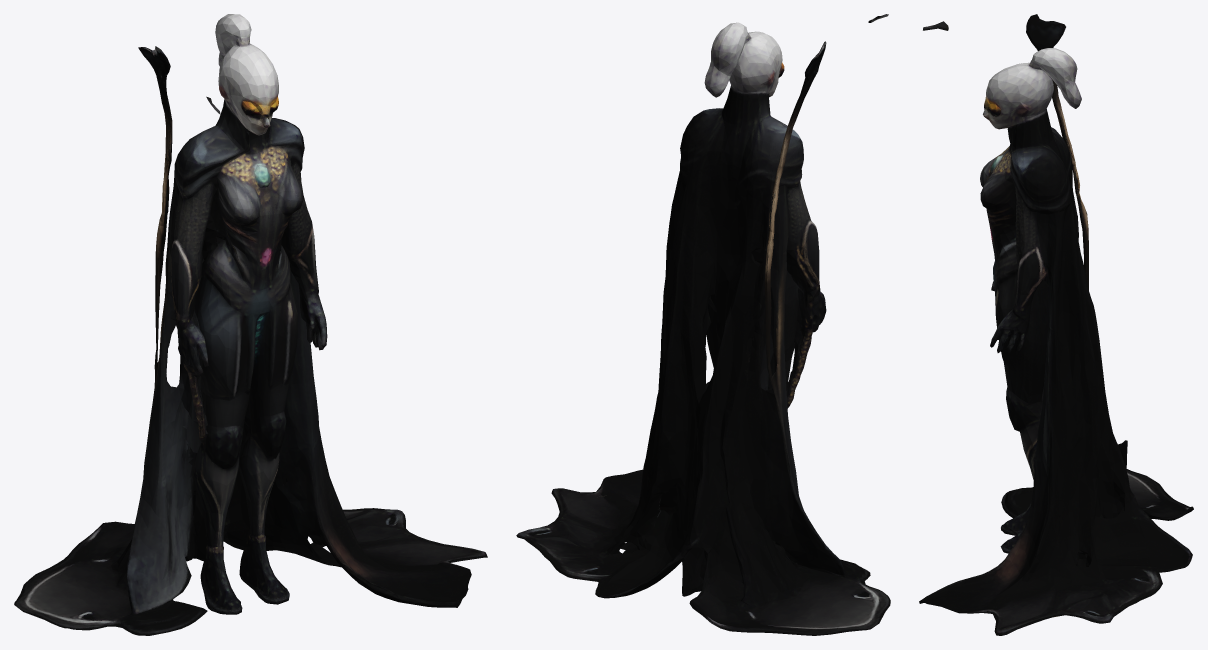
File: odessa_drake.glb
The picture shows the model from 3 angles, left to right: view 1: azimuth 30°, elevation 25°; view 2: azimuth 150°, elevation 25°; view 3: azimuth 270°, elevation 25°; orthographic projection. The views are drawn at different scales.
Visible parts, largest first — view 1: world; view 2: world; view 3: world.
Part boxes in pixels (left/top/right/bottom): world: left=14, top=14, right=487, bottom=635; world: left=516, top=14, right=890, bottom=635; world: left=919, top=14, right=1193, bottom=635.
Bounding box in the file's own units: 0.7407 × 0.9983 × 0.5029.
1 material, 1 textured.
